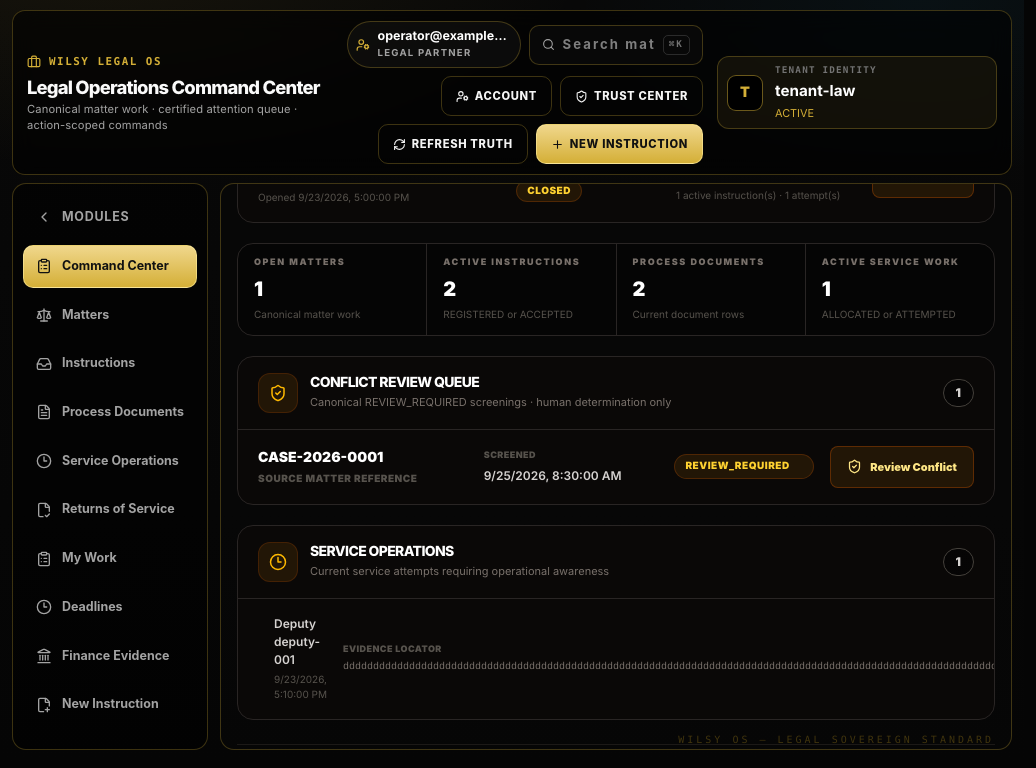
Scenario: D15 first-class Legal Matter Operating Room › keeps HTTP 403 review failure visible without fabricating success
The image size is (1036, 768).
(page scrolled)
Expected: the heading "Conflict review queue" is shown, [310,374,479,391]
Click the button "Review Conflict" at (902,467), box [830,446,974,488]
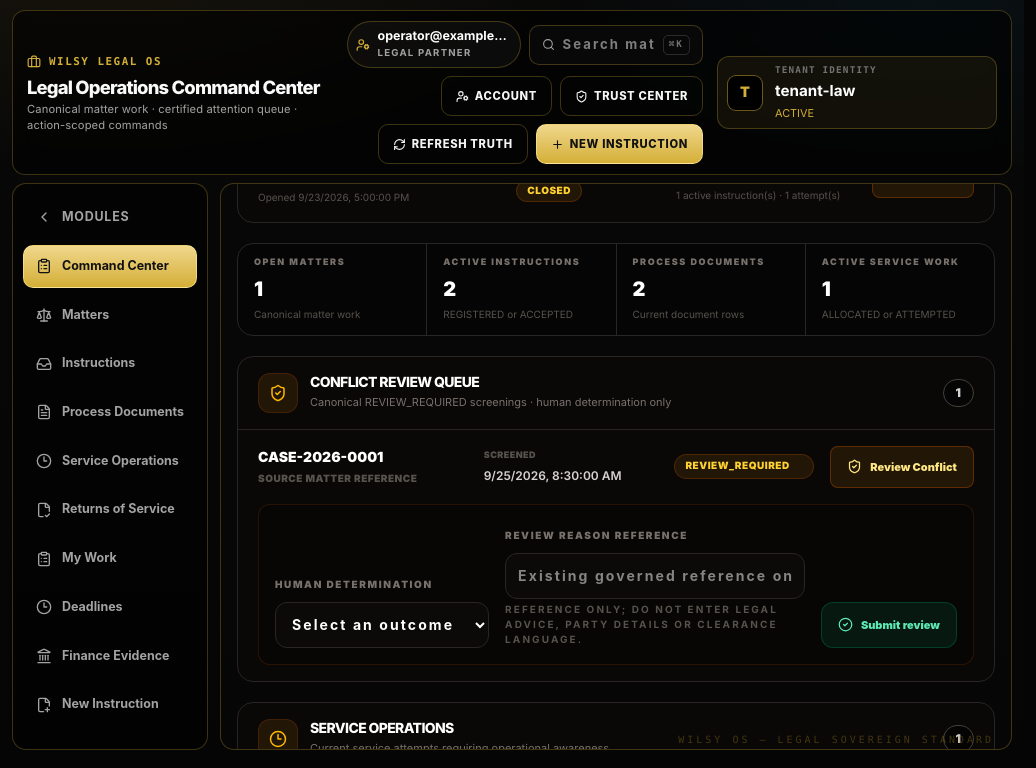
Select "CONFLICT_IDENTIFIED" in the dropdown named "Conflict review outcome for CASE-2026-0001" at (382,625), box [275,602,489,648]
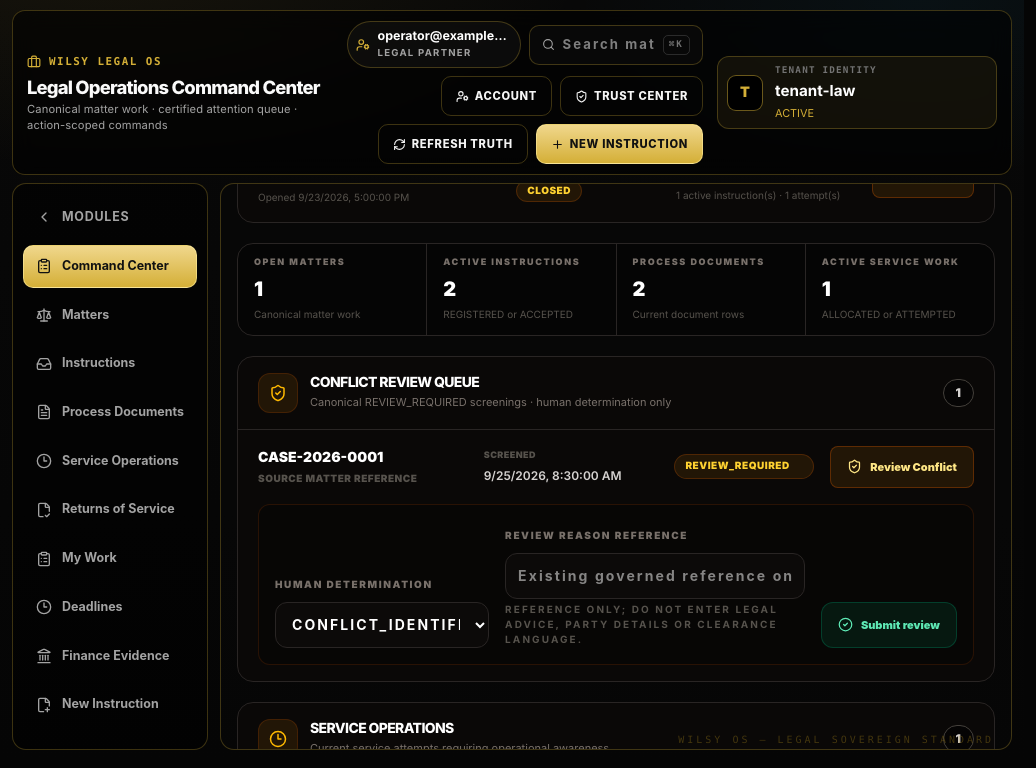
Type "review-ref:failure-check" into the field named "Conflict review reason for CASE-2026-0001" at (655,576), box [505,553,805,599]
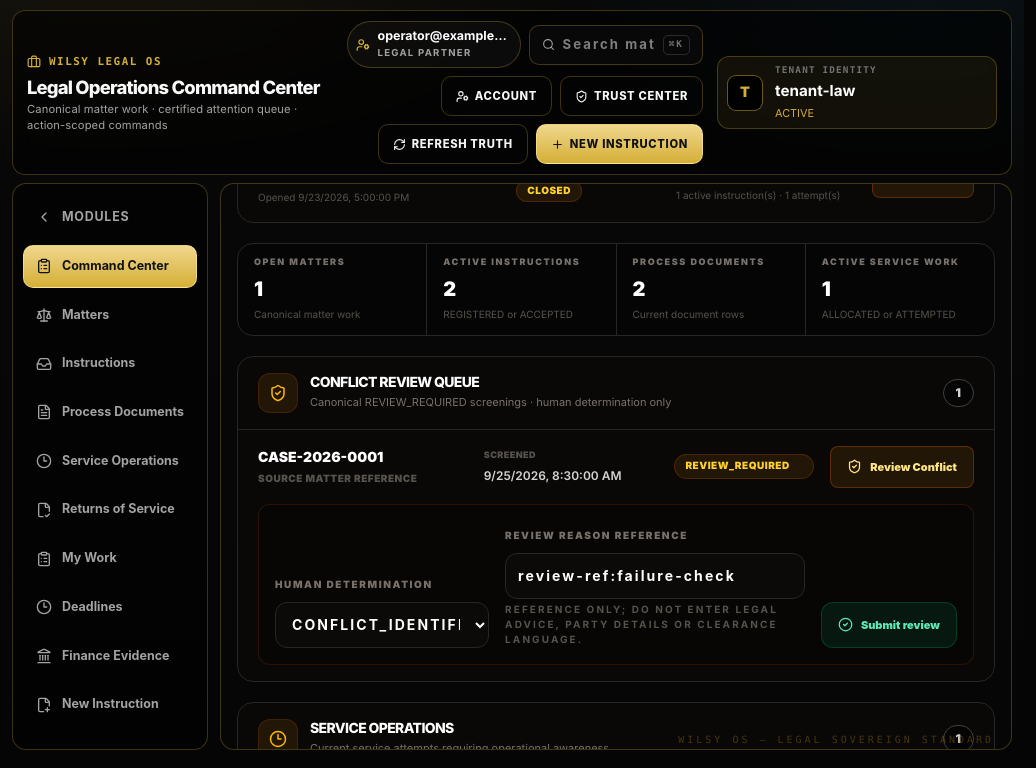
Click the button "Submit review" at (889,625), box [821,602,957,648]
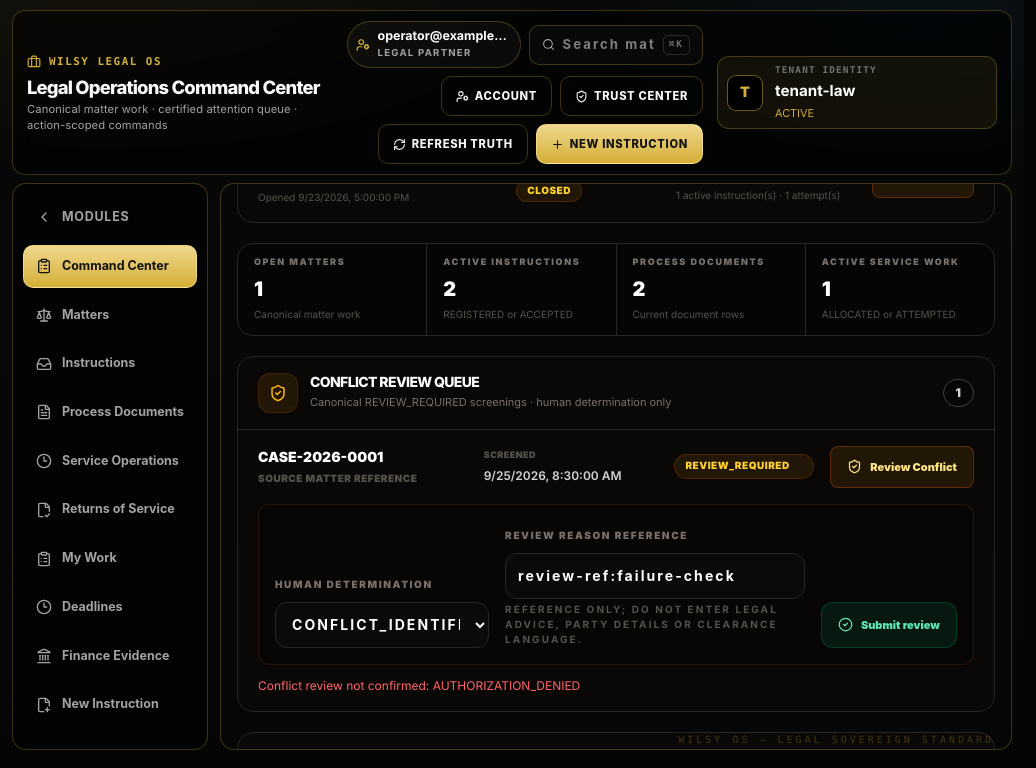
Now the text "Conflict review not confirmed: AUTHORIZATION_DENIED" is shown, box [258,678,580,693]
